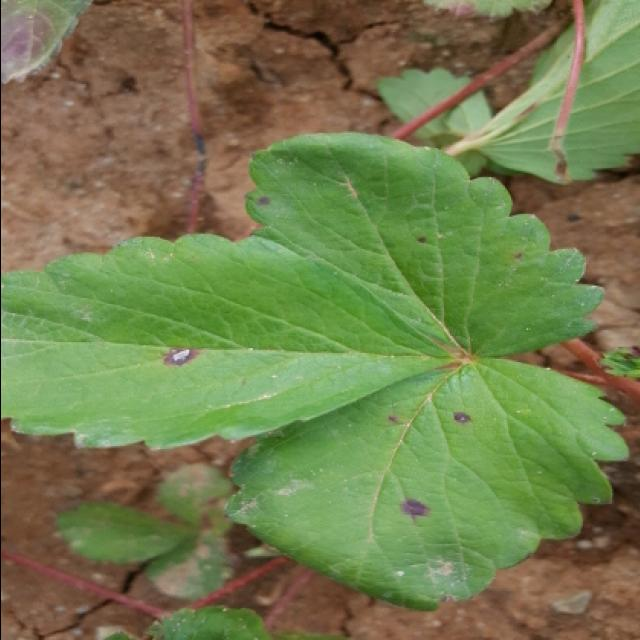Leaf Spot: (226, 358, 629, 612), (2, 233, 464, 450), (243, 131, 603, 359), (154, 459, 235, 538)
